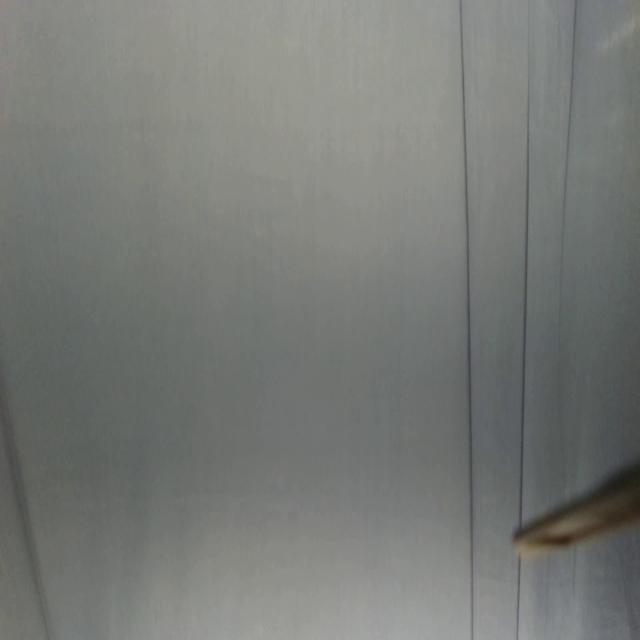crease: (0, 380, 51, 639), (459, 0, 475, 640), (557, 0, 579, 417), (516, 0, 532, 522), (514, 554, 523, 640)
